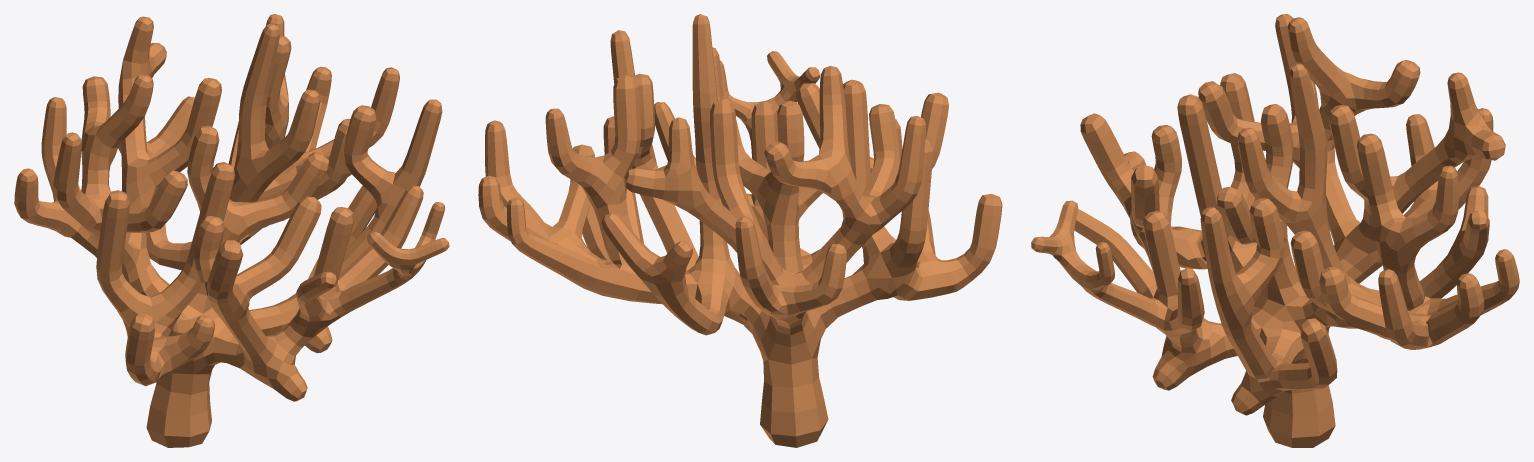
File: coral-1.glb
3 renders of one model, left to right at view 1: azimuth 30°, elevation 25°; view 2: azimuth 150°, elevation 25°; view 3: azimuth 270°, elevation 25°, orthographic. The views are drawn at different scales.
Parts seen in each view (by area): view 1: coral-1; view 2: coral-1; view 3: coral-1.
Boxes of the visible parts, x1,y1,x2,y2 form: coral-1: (14,14,449,447); coral-1: (478,14,1002,447); coral-1: (1031,14,1519,447).
Bounding box in the file's own units: 2.91 × 2.86 × 2.97.
